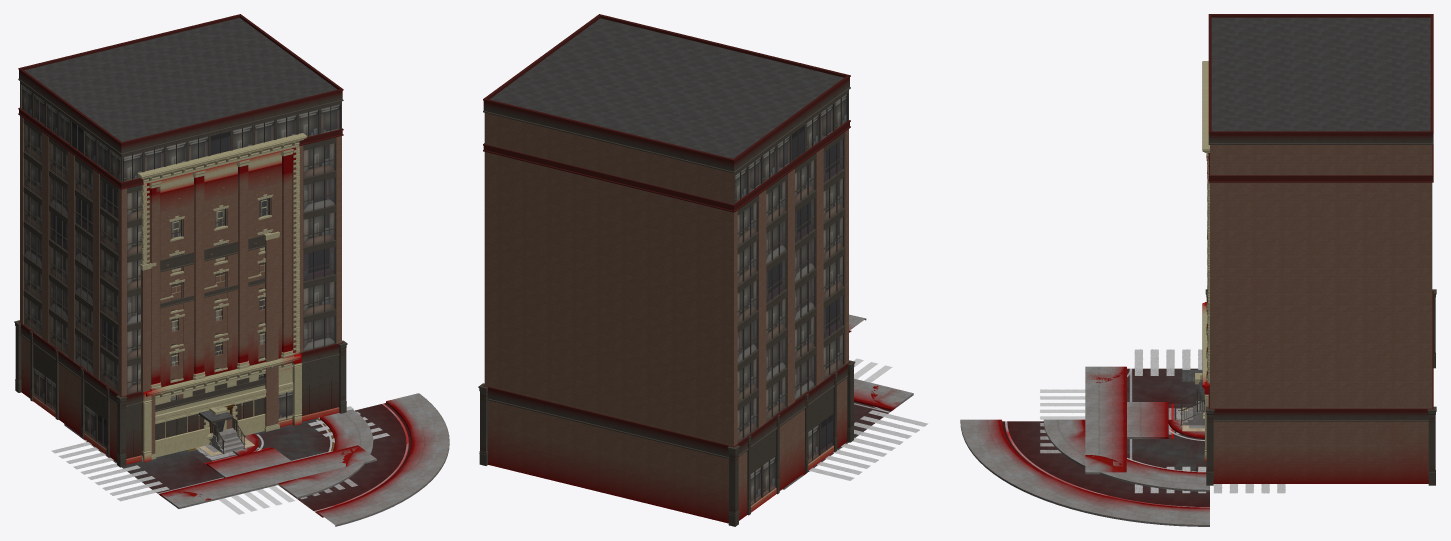
Rendered from city.gltf.
3 views of the same model, side by side, from view 1: azimuth 30°, elevation 25°; view 2: azimuth 150°, elevation 25°; view 3: azimuth 270°, elevation 25° (orthographic). The views are drawn at different scales.
Parts seen in each view (by area): view 1: Building_Large_2, Building_Medium_2.001, Building_Small_1, Street_Curve_4LaneShort, Street_TIntersection, Street_4WayIntersection, Street_Curve_2Lane, Street_Curve_4Lane_Short_Curb, Street_2Lane; view 2: Building_Large_2, Street_TIntersection, Street_4WayIntersection; view 3: Building_Large_2, Street_Curve_4LaneShort, Street_TIntersection, Street_4WayIntersection, Street_Curve_4Lane_Short_Curb, Street_Curve_2Lane, Street_Curve_2Lane_Curb, Building_Medium_2.001, Street_2Lane.
Part boxes in pixels (bbox=[...]): Building_Large_2: bbox=[14, 14, 347, 467]; Building_Medium_2.001: bbox=[137, 133, 306, 462]; Building_Small_1: bbox=[140, 231, 279, 461]; Street_Curve_4LaneShort: bbox=[232, 393, 449, 526]; Street_TIntersection: bbox=[52, 406, 389, 508]; Street_4WayIntersection: bbox=[52, 406, 389, 514]; Street_Curve_2Lane: bbox=[236, 409, 373, 498]; Street_Curve_4Lane_Short_Curb: bbox=[330, 393, 449, 516]; Street_2Lane: bbox=[187, 447, 291, 477]; Building_Large_2: bbox=[478, 14, 855, 526]; Street_TIntersection: bbox=[793, 378, 927, 481]; Street_4WayIntersection: bbox=[782, 356, 926, 489]; Building_Large_2: bbox=[1205, 14, 1436, 485]; Street_Curve_4LaneShort: bbox=[960, 419, 1209, 515]; Street_TIntersection: bbox=[1085, 349, 1284, 492]; Street_4WayIntersection: bbox=[1040, 349, 1285, 493]; Street_Curve_4Lane_Short_Curb: bbox=[960, 422, 1209, 526]; Street_Curve_2Lane: bbox=[1043, 419, 1209, 491]; Street_Curve_2Lane_Curb: bbox=[1043, 420, 1209, 491]; Building_Medium_2.001: bbox=[1202, 61, 1209, 461]; Street_2Lane: bbox=[1127, 402, 1173, 438].
Bounding box in the file's own units: 30.33 × 28.2 × 34.32.
15 materials, 13 textured.
